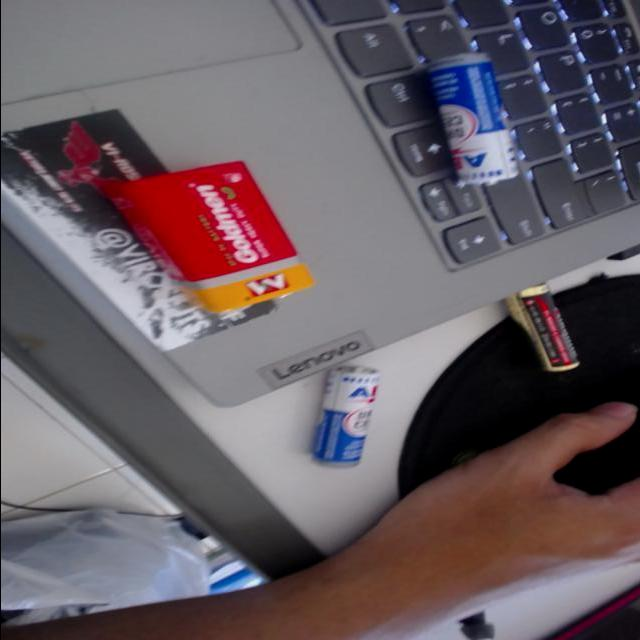9V: (140, 130, 330, 337)
AA: (481, 265, 607, 382)
